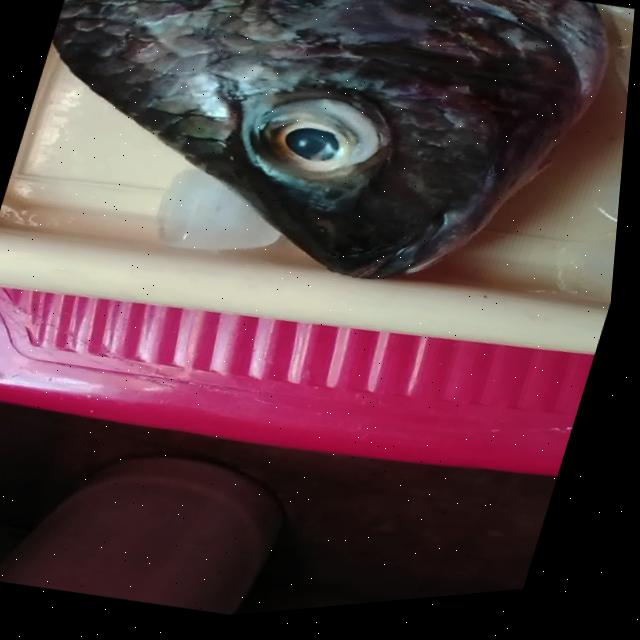Fresh: (202, 64, 431, 225)
